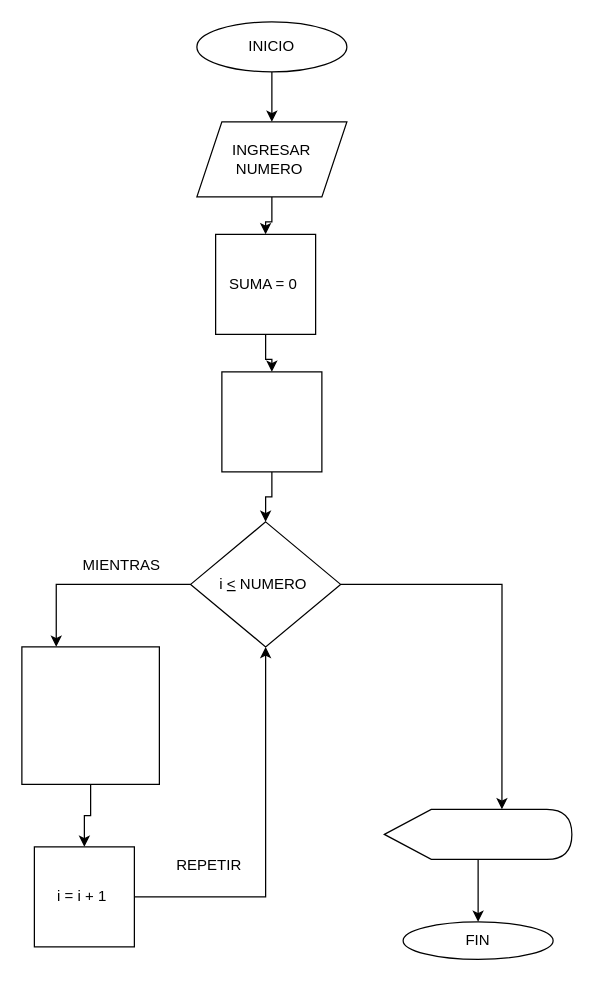
Image size: 594x981. Some labels were removed from this diagram. The shapes that lost their labels are listed below. From the top down, each one's centre as x and y in pixels, then its label:
(271,421): i = 1
(90,715): SUMA = SUMA + i
(477,833): MOSTRAR SUMA
